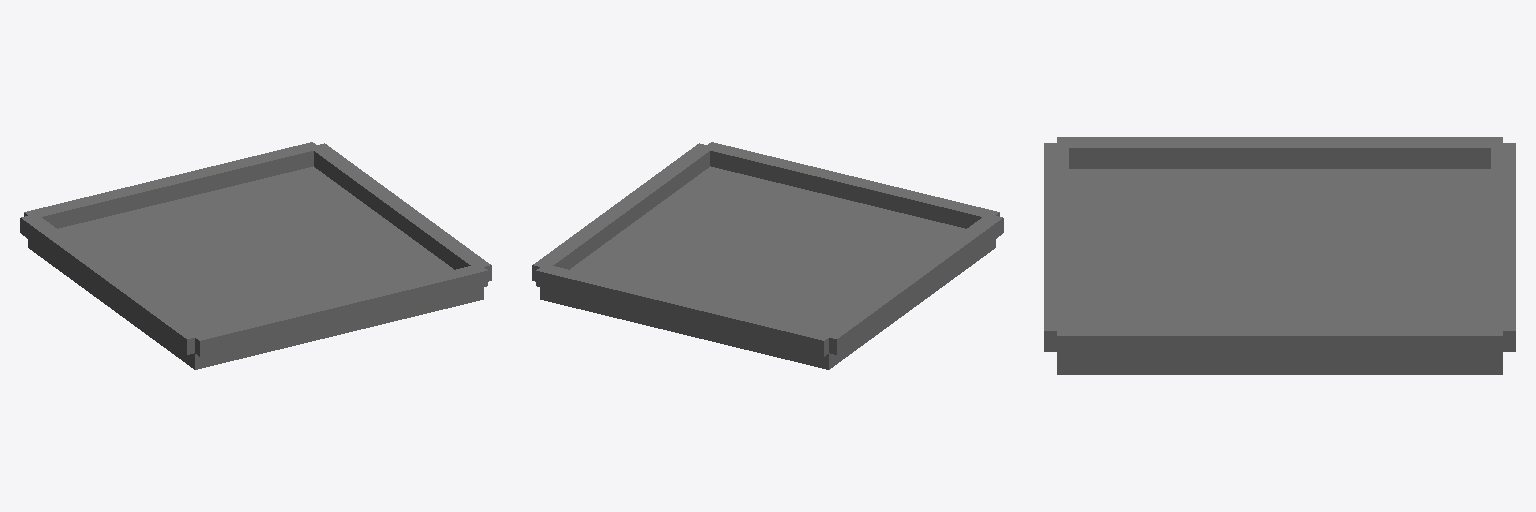
The robot description file, URDF, robot "drop_box":
<?xml version="1.0"?>
<robot name="drop_box">
  <!-- Shallow drop tray: walls are twice the PCB height (PCB z=9.4mm -> wall=18.8mm).
       Base 2cm thick; walls rise from z=0.02 to z=0.0388. Stands on its own pedestal
       (spawned separately at the same x,y), top of pedestal at z=0.8. -->
  <link name="drop_box">
    <!-- Floor -->
    <visual>
      <origin xyz="0 0 0.01" rpy="0 0 0"/>
      <geometry><box size="0.36 0.36 0.02"/></geometry>
      <material name="box_grey"><color rgba="0.5 0.5 0.5 1.0"/></material>
    </visual>
    <collision>
      <origin xyz="0 0 0.01" rpy="0 0 0"/>
      <geometry><box size="0.36 0.36 0.02"/></geometry>
    </collision>

    <!-- +x wall -->
    <visual>
      <origin xyz="0.18 0 0.0294" rpy="0 0 0"/>
      <geometry><box size="0.02 0.36 0.0188"/></geometry>
      <material name="box_grey"/>
    </visual>
    <collision>
      <origin xyz="0.18 0 0.0294" rpy="0 0 0"/>
      <geometry><box size="0.02 0.36 0.0188"/></geometry>
    </collision>

    <!-- -x wall -->
    <visual>
      <origin xyz="-0.18 0 0.0294" rpy="0 0 0"/>
      <geometry><box size="0.02 0.36 0.0188"/></geometry>
      <material name="box_grey"/>
    </visual>
    <collision>
      <origin xyz="-0.18 0 0.0294" rpy="0 0 0"/>
      <geometry><box size="0.02 0.36 0.0188"/></geometry>
    </collision>

    <!-- +y wall -->
    <visual>
      <origin xyz="0 0.18 0.0294" rpy="0 0 0"/>
      <geometry><box size="0.36 0.02 0.0188"/></geometry>
      <material name="box_grey"/>
    </visual>
    <collision>
      <origin xyz="0 0.18 0.0294" rpy="0 0 0"/>
      <geometry><box size="0.36 0.02 0.0188"/></geometry>
    </collision>

    <!-- -y wall -->
    <visual>
      <origin xyz="0 -0.18 0.0294" rpy="0 0 0"/>
      <geometry><box size="0.36 0.02 0.0188"/></geometry>
      <material name="box_grey"/>
    </visual>
    <collision>
      <origin xyz="0 -0.18 0.0294" rpy="0 0 0"/>
      <geometry><box size="0.36 0.02 0.0188"/></geometry>
    </collision>

    <inertial>
      <origin xyz="0 0 0.02" rpy="0 0 0"/>
      <mass value="1.0"/>
      <inertia ixx="0.01" ixy="0" ixz="0" iyy="0.01" iyz="0" izz="0.01"/>
    </inertial>
  </link>

  <gazebo>
    <static>true</static>
  </gazebo>
  <gazebo reference="drop_box">
    <material>Gazebo/Grey</material>
  </gazebo>
</robot>

--- Facts derived from the render (not from the file) ---
Views: 3 orthographic renders of the robot side by side, from view 1: azimuth 30°, elevation 25°; view 2: azimuth 150°, elevation 25°; view 3: azimuth 270°, elevation 25°.
Model drop_box with 1 links and 0 joints (none), rooted at drop_box, posed every joint at zero.
Links seen in each view (by area): view 1: drop_box; view 2: drop_box; view 3: drop_box.
Link boxes in pixels (x1,y1,x2,y2): drop_box: [20, 142, 491, 369]; drop_box: [532, 142, 1003, 369]; drop_box: [1044, 137, 1515, 374].
Bounding box of the posed robot: 0.38 × 0.38 × 0.0388 m (x, y, z).
Geometry: primitives only (box / cylinder / sphere), no mesh files.
